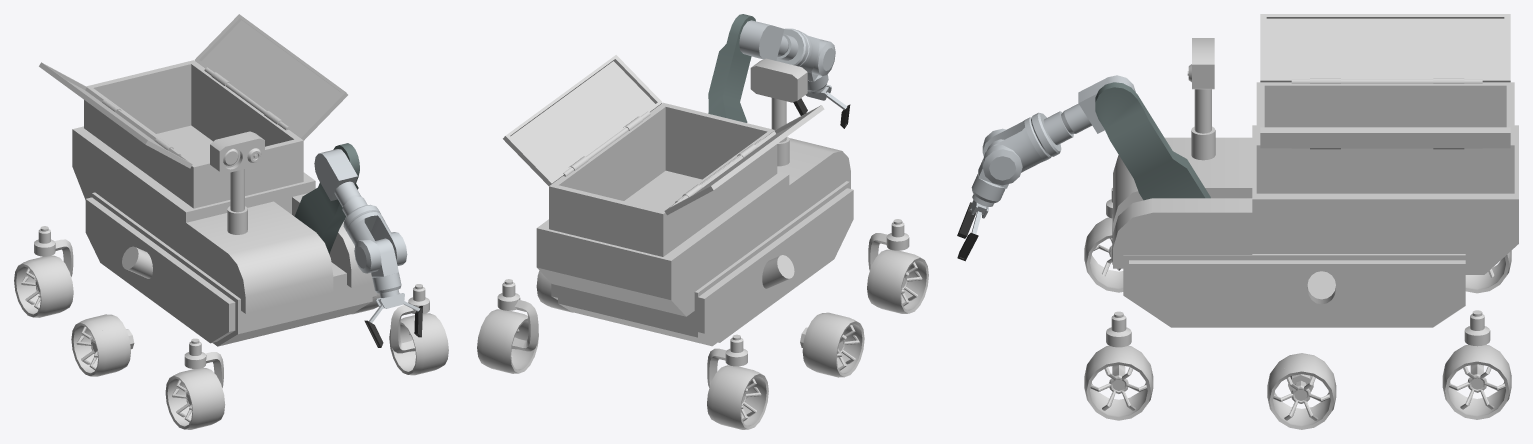
Rendered from LogisticsRover.fbx.
3 views of the same model, side by side, from view 1: azimuth 30°, elevation 25°; view 2: azimuth 150°, elevation 25°; view 3: azimuth 270°, elevation 25° (orthographic). The views are drawn at different scales.
Visible parts, largest first — view 1: Cube.002, Cube, Cube.001, Plane.001, Cylinder.001, RobotArm, Cylinder.005, Cylinder, Cylinder.003, Cylinder.002, Cylinder.004; view 2: Cube.002, Cube, Cylinder.001, Plane.001, RobotArm, Cube.001, Cylinder.005, Cylinder.003, Cylinder, Cylinder.002, Cylinder.004; view 3: Cube.002, Cube, Plane.001, RobotArm, Cube.001, Cylinder.001, Cylinder.005, Cylinder, Cylinder.003, Cylinder.004, Cylinder.002.
Boxes of the visible parts, x1,y1,x2,y2 form: Cube.002: [72, 60, 315, 258]; Cube: [85, 192, 376, 346]; Cube.001: [186, 193, 372, 313]; Plane.001: [39, 14, 347, 168]; Cylinder.001: [14, 255, 448, 429]; RobotArm: [294, 143, 422, 347]; Cylinder.005: [210, 131, 264, 234]; Cylinder: [172, 284, 429, 422]; Cylinder.003: [21, 226, 73, 309]; Cylinder.002: [122, 246, 152, 278]; Cylinder.004: [76, 326, 134, 369]; Cube.002: [536, 102, 789, 316]; Cube: [551, 181, 853, 346]; Cylinder.001: [477, 249, 928, 429]; Plane.001: [503, 55, 824, 215]; RobotArm: [708, 14, 850, 128]; Cube.001: [777, 138, 850, 222]; Cylinder.005: [750, 58, 807, 166]; Cylinder.003: [497, 279, 761, 421]; Cylinder: [868, 219, 922, 306]; Cylinder.002: [762, 255, 794, 288]; Cylinder.004: [800, 325, 859, 370]; Cube.002: [1252, 82, 1518, 274]; Cube: [1123, 254, 1465, 327]; Plane.001: [1260, 14, 1510, 149]; RobotArm: [957, 75, 1210, 261]; Cube.001: [1113, 137, 1252, 268]; Cylinder.001: [1084, 217, 1511, 429]; Cylinder.005: [1187, 38, 1215, 160]; Cylinder: [1090, 188, 1146, 410]; Cylinder.003: [1449, 268, 1505, 409]; Cylinder.004: [1273, 374, 1329, 420]; Cylinder.002: [1307, 271, 1335, 304].
Bounding box in the file's own units: 89.59 × 72.45 × 129.
